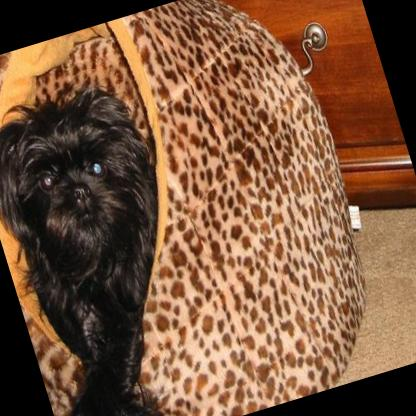affenpinscher: (0, 59, 231, 416)
